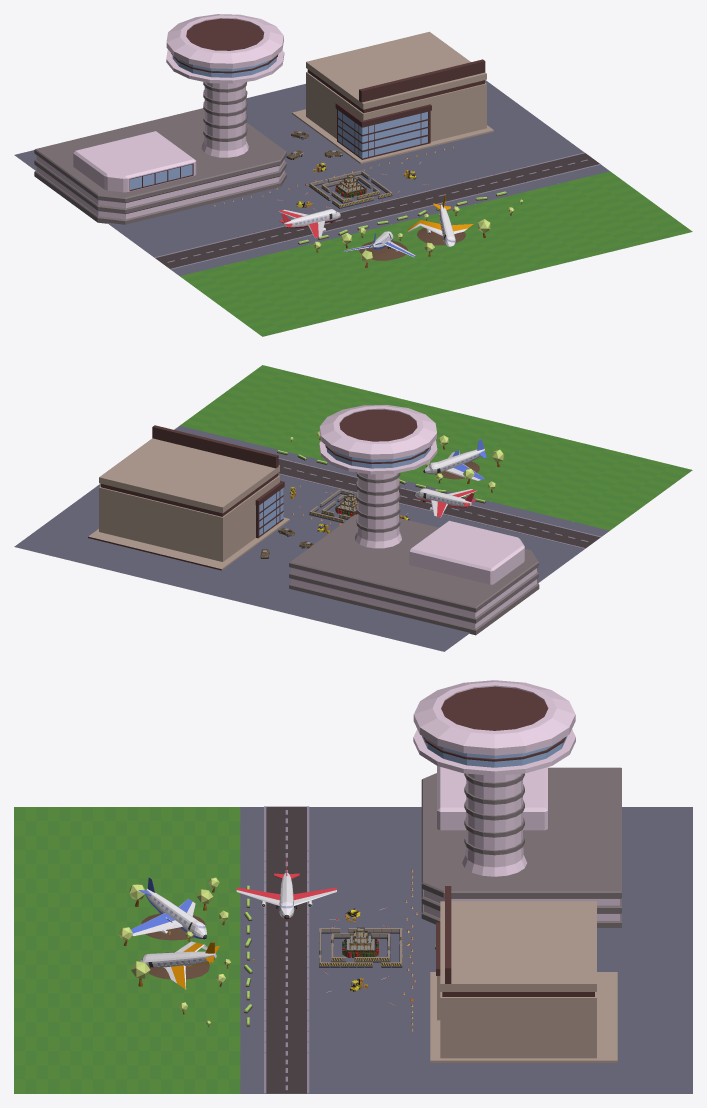
File: airport2.fbx
3 views of the same model, one above another, from view 1: azimuth 30°, elevation 25°; view 2: azimuth 150°, elevation 25°; view 3: azimuth 270°, elevation 25° (orthographic). The views are drawn at different scales.
Visible parts, largest first — view 1: Grass, Building, Asphalt, Building2, TrafficSign, Cube.022, Plane, Plane.002, Plane.001, Plane.004; view 2: Building, Grass, Asphalt, Building2, TrafficSign, Plane.001, Plane, Cube.022; view 3: Asphalt, Grass, Building, Building2, TrafficSign, Plane.001, Cube.022, Plane.002, Plane, BigBunker.306.
Part boxes in pixels (<box>): Grass: <box>180,171,692,336</box>; Building: <box>34,14,286,224</box>; Asphalt: <box>14,80,609,275</box>; Building2: <box>292,31,493,163</box>; TrafficSign: <box>154,152,600,269</box>; Cube.022: <box>309,170,392,208</box>; Plane: <box>278,209,341,238</box>; Plane.002: <box>407,195,473,246</box>; Plane.001: <box>343,231,415,257</box>; Plane.004: <box>359,240,407,260</box>; Building: <box>289,405,539,635</box>; Grass: <box>180,365,692,530</box>; Asphalt: <box>14,425,609,651</box>; Building2: <box>88,425,289,570</box>; TrafficSign: <box>278,458,600,548</box>; Plane.001: <box>423,439,486,480</box>; Plane: <box>414,488,477,517</box>; Cube.022: <box>309,489,354,523</box>; Asphalt: <box>240,807,692,1093</box>; Grass: <box>14,807,240,1093</box>; Building: <box>413,680,621,927</box>; Building2: <box>430,886,617,1062</box>; TrafficSign: <box>264,806,309,1093</box>; Plane.001: <box>131,877,206,939</box>; Cube.022: <box>319,928,402,967</box>; Plane.002: <box>139,941,219,989</box>; Plane: <box>236,858,336,919</box>; BigBunker.306: <box>342,927,378,957</box>.
Size of the model in its own units: 245 by 78.11 by 242.
Materials: 60 (3 with a texture image).
